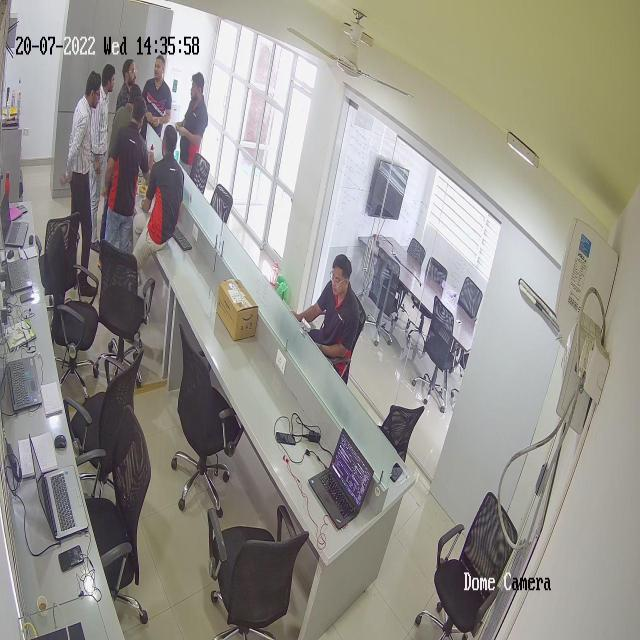chair: (199, 484, 308, 640), (411, 485, 520, 640), (80, 406, 152, 598), (169, 328, 240, 518), (60, 346, 143, 478), (94, 238, 162, 388), (44, 239, 102, 392), (416, 292, 459, 418), (362, 242, 404, 352), (33, 206, 83, 284), (378, 397, 425, 468), (456, 274, 484, 325), (209, 178, 234, 227), (423, 250, 450, 293), (190, 138, 210, 193), (406, 235, 426, 268)
keyboard: (166, 213, 194, 255)
laptop: (303, 425, 377, 533), (29, 439, 90, 539), (0, 329, 45, 413), (0, 237, 34, 292), (1, 192, 28, 249)
person: (64, 66, 115, 284), (298, 247, 362, 373), (136, 122, 184, 274), (105, 99, 149, 252), (178, 69, 210, 180), (141, 53, 172, 136), (114, 57, 144, 140)
phone: (53, 540, 89, 574), (274, 428, 298, 450), (18, 287, 36, 306), (17, 202, 28, 216)
